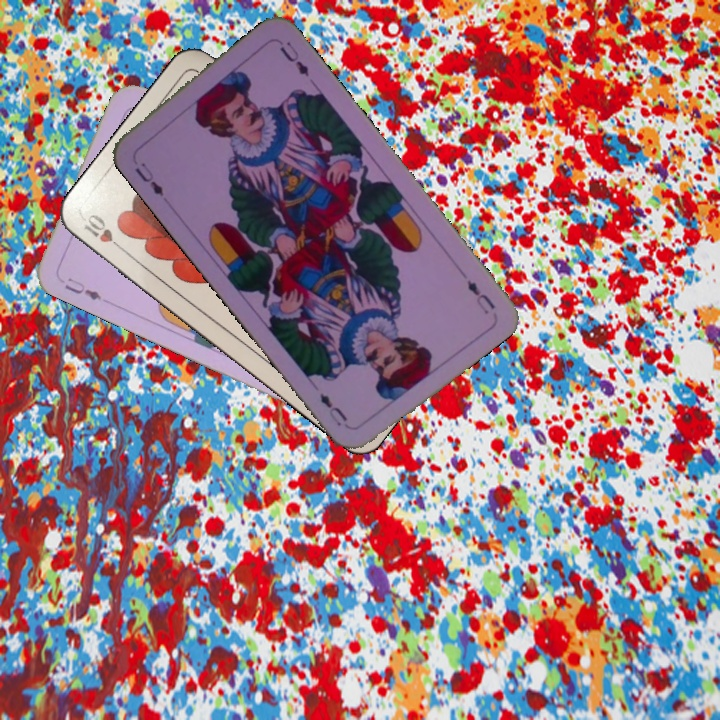EU: (130, 158, 167, 199), (462, 276, 498, 317), (60, 273, 105, 303)
H10: (78, 209, 129, 255)
